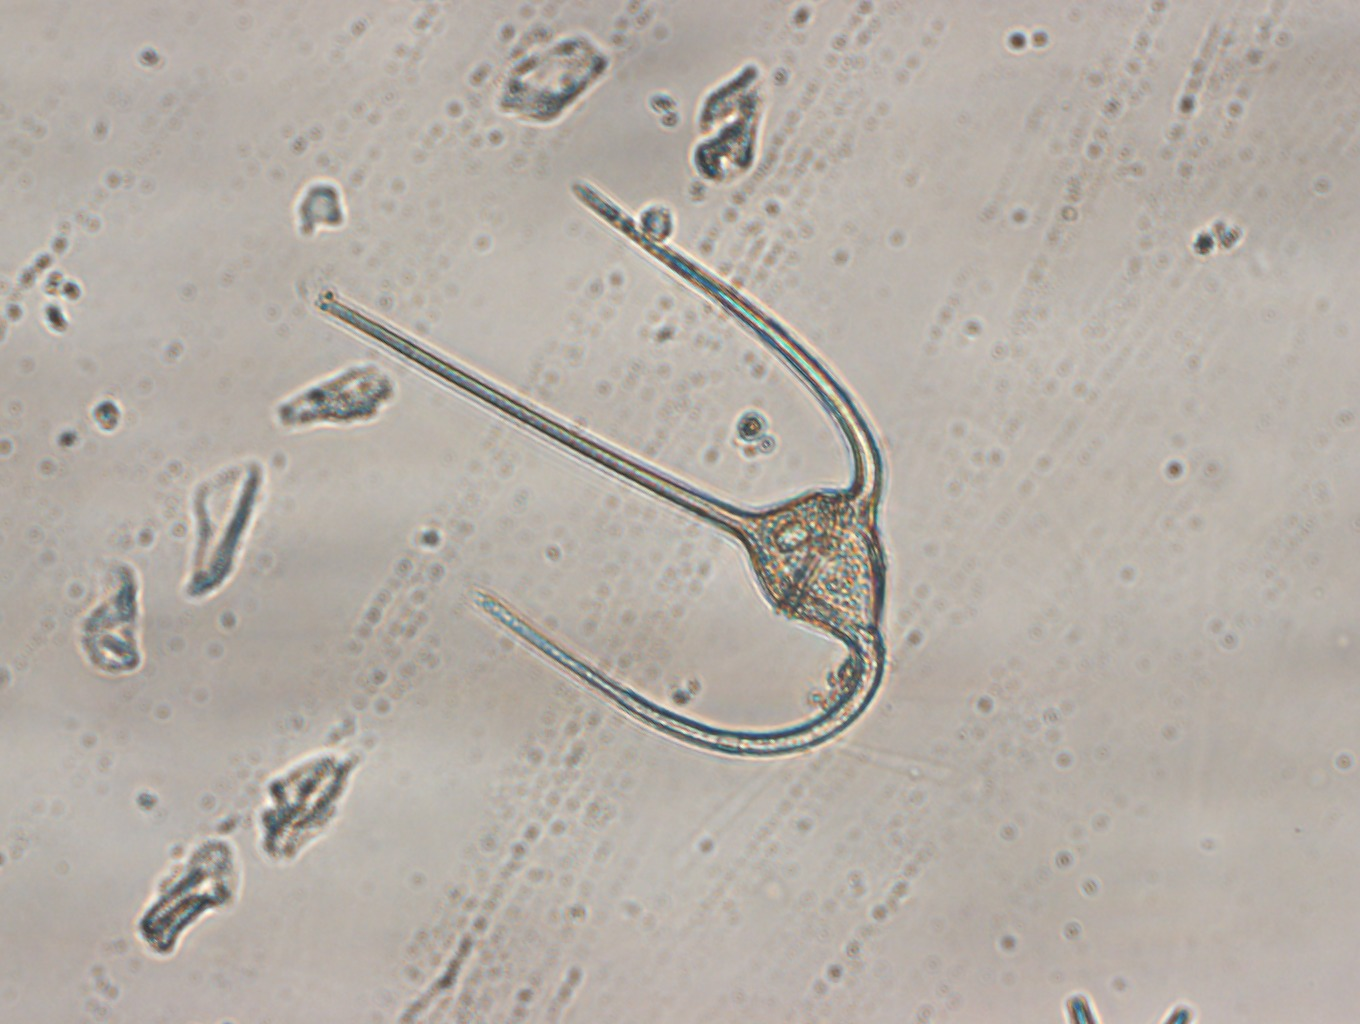ceratium trichoceros: (311, 171, 898, 762)
